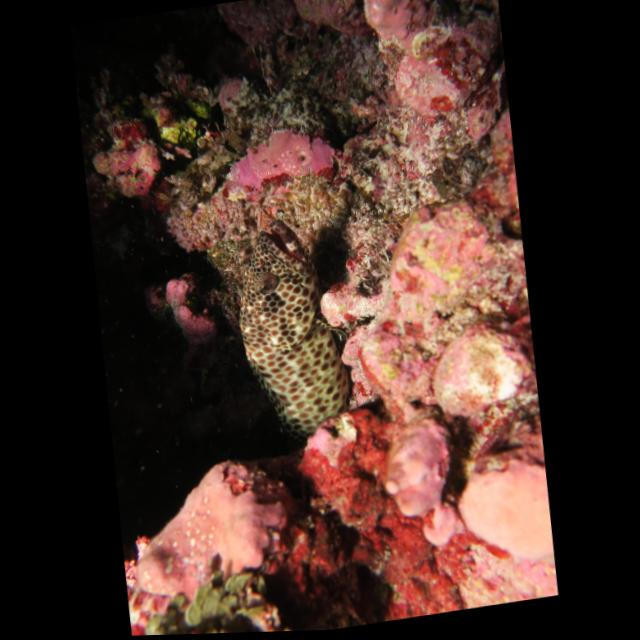Groupers: (222, 208, 359, 453)
